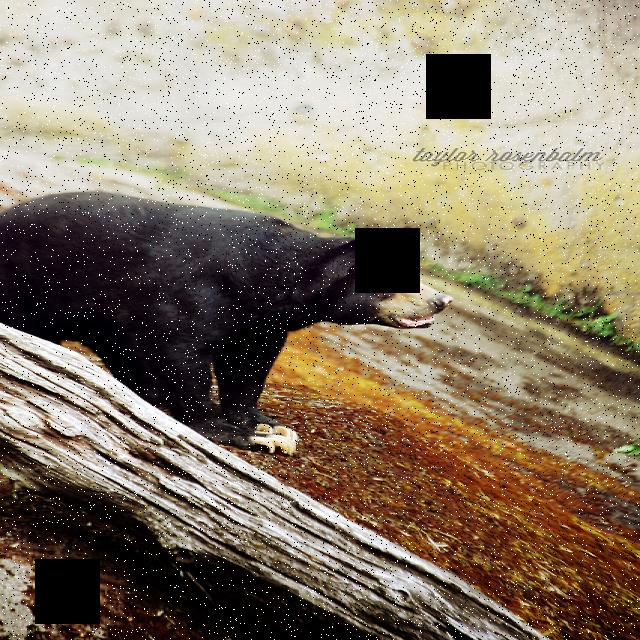Bear: (0, 173, 477, 461)
